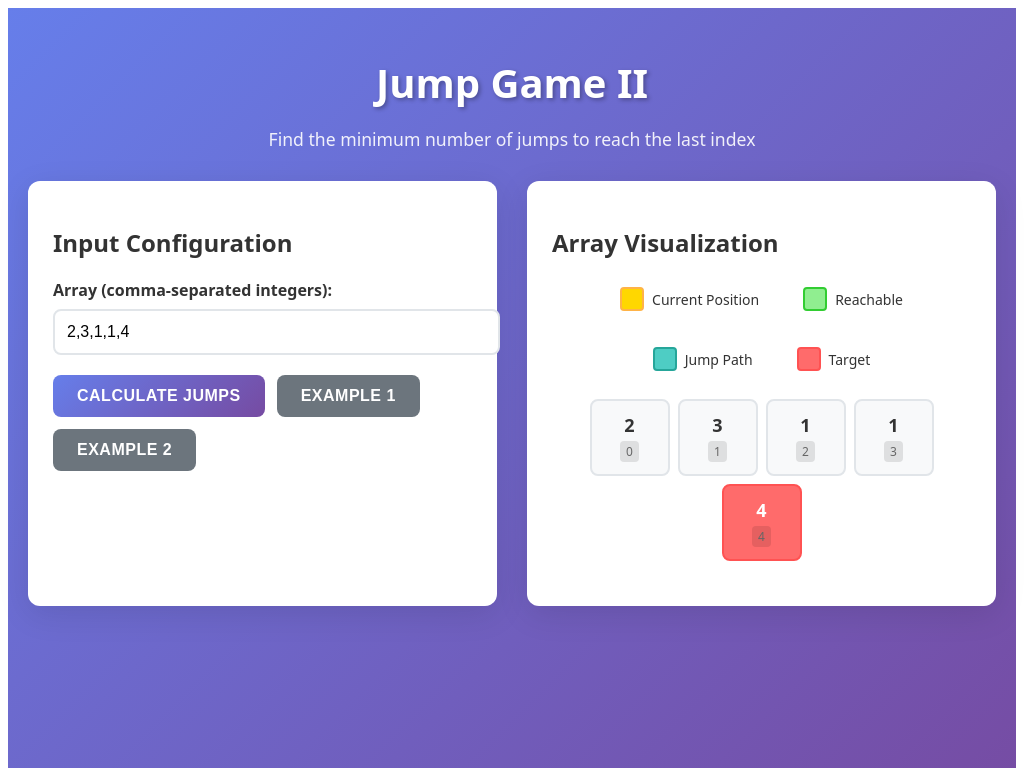
Test case: JumpGame Component › shows error for invalid input
Replace the text in the field with test id "array-input" with "invalid,input" at (276,332), box [53,309,500,355]
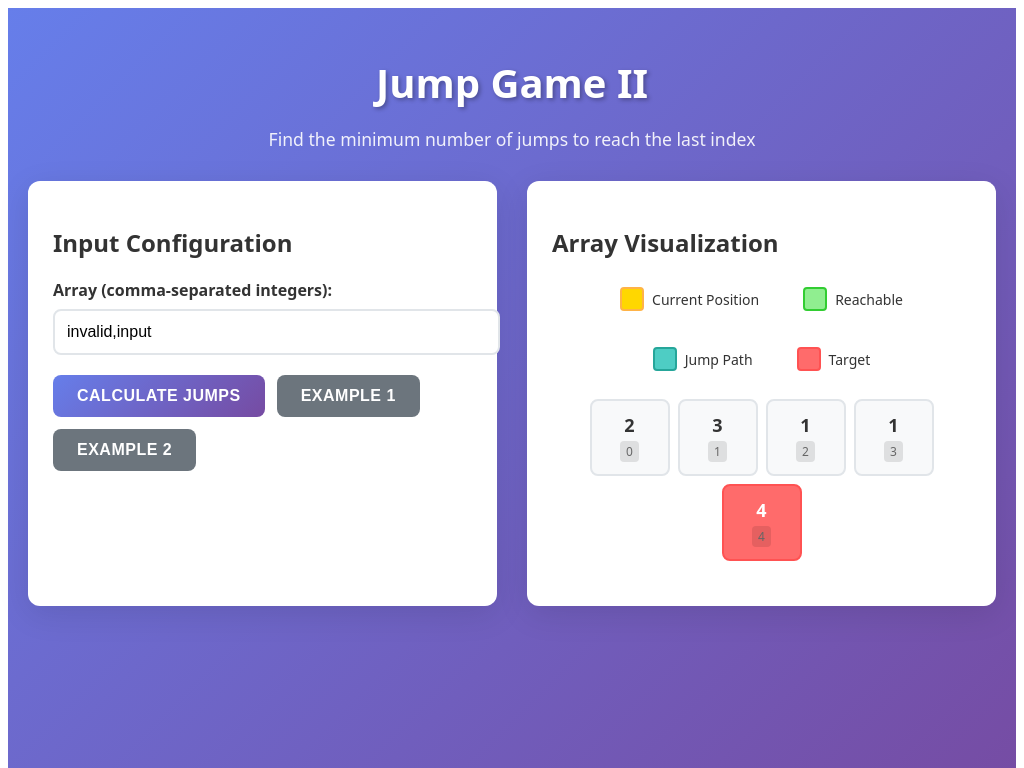
Click the button with test id "calculate-btn" at (159,396), box [53,375,265,417]
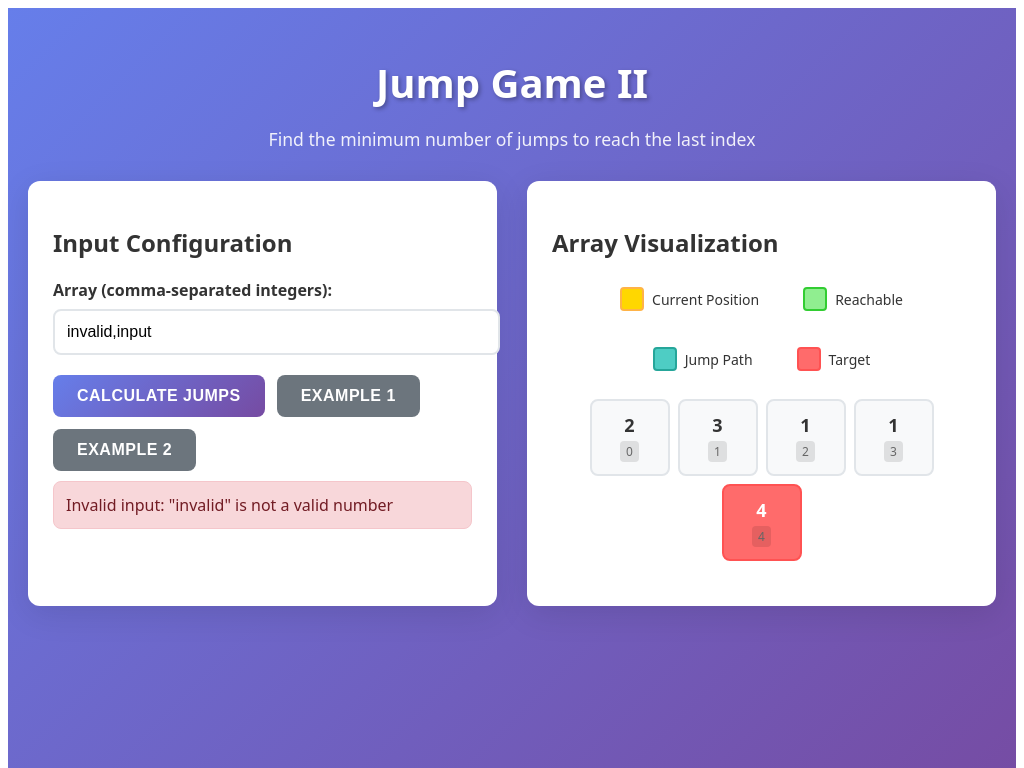
Expected: the text "Invalid input: \"invalid\" is not a valid number" is shown, [53,481,472,529]
